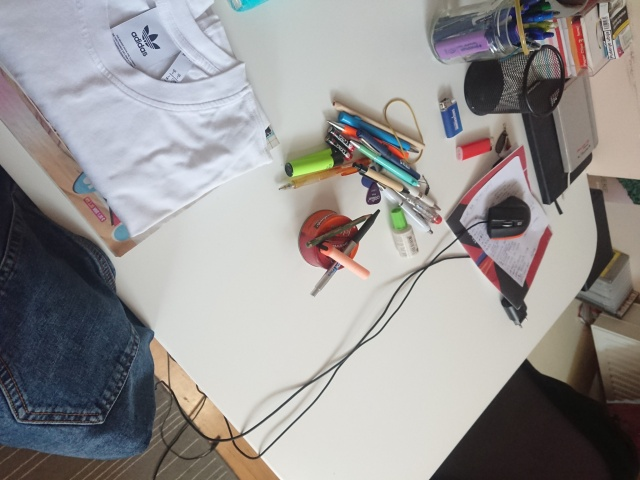Gavrilovic Pork Liver Pate 100g: (295, 207, 360, 271)
